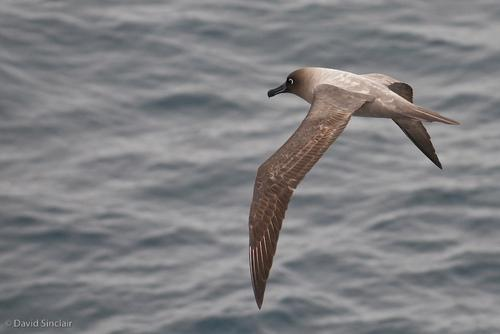003.Sooty_Albatross: (249, 62, 460, 310)
